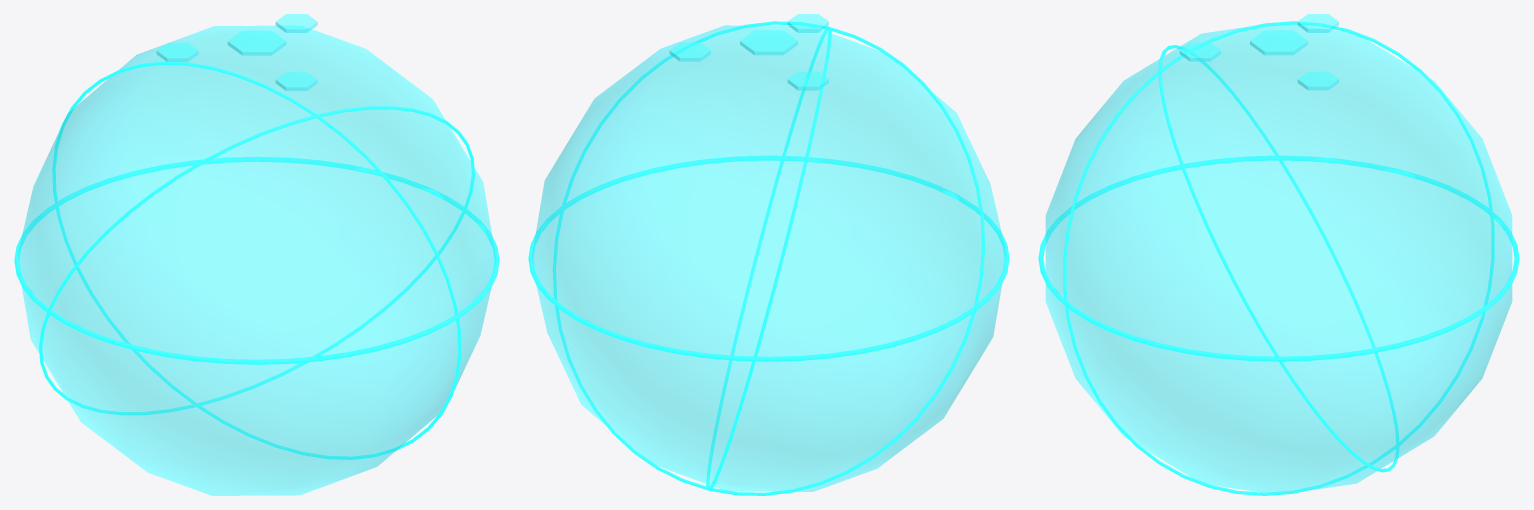
The model's file is enemy_warden_shield.glb.
3 renders of one model, left to right at view 1: azimuth 30°, elevation 25°; view 2: azimuth 150°, elevation 25°; view 3: azimuth 270°, elevation 25°, orthographic.
Visible parts, largest first — view 1: warden_shield_bubble, warden_shield_seam_h, warden_shield_seam_b, warden_shield_seam_a, warden_shield_apex, warden_shield_node2, warden_shield_node1, warden_shield_node0; view 2: warden_shield_bubble, warden_shield_seam_h, warden_shield_seam_a, warden_shield_seam_b, warden_shield_apex, warden_shield_node1, warden_shield_node2, warden_shield_node0; view 3: warden_shield_bubble, warden_shield_seam_h, warden_shield_seam_b, warden_shield_seam_a, warden_shield_apex, warden_shield_node2, warden_shield_node0, warden_shield_node1.
Boxes of the visible parts, <box> form: warden_shield_bubble: <box>17,25,496,495</box>; warden_shield_seam_h: <box>14,156,499,364</box>; warden_shield_seam_b: <box>52,61,461,459</box>; warden_shield_seam_a: <box>39,106,474,415</box>; warden_shield_apex: <box>227,30,286,55</box>; warden_shield_node2: <box>275,14,317,32</box>; warden_shield_node1: <box>156,43,198,61</box>; warden_shield_node0: <box>275,72,317,90</box>; warden_shield_bubble: <box>531,25,1006,491</box>; warden_shield_seam_h: <box>528,155,1009,361</box>; warden_shield_seam_a: <box>552,21,985,495</box>; warden_shield_seam_b: <box>706,26,831,490</box>; warden_shield_apex: <box>740,30,797,55</box>; warden_shield_node1: <box>787,71,828,90</box>; warden_shield_node2: <box>669,42,710,61</box>; warden_shield_node0: <box>787,14,828,32</box>; warden_shield_bubble: <box>1045,24,1512,494</box>; warden_shield_seam_h: <box>1038,155,1519,361</box>; warden_shield_seam_b: <box>1063,21,1494,495</box>; warden_shield_seam_a: <box>1158,45,1399,472</box>; warden_shield_apex: <box>1250,30,1307,55</box>; warden_shield_node2: <box>1297,71,1338,90</box>; warden_shield_node0: <box>1179,42,1220,61</box>; warden_shield_node1: <box>1297,14,1338,32</box>.
Size of the model in its own units: 2.32 by 2.29 by 2.32.
